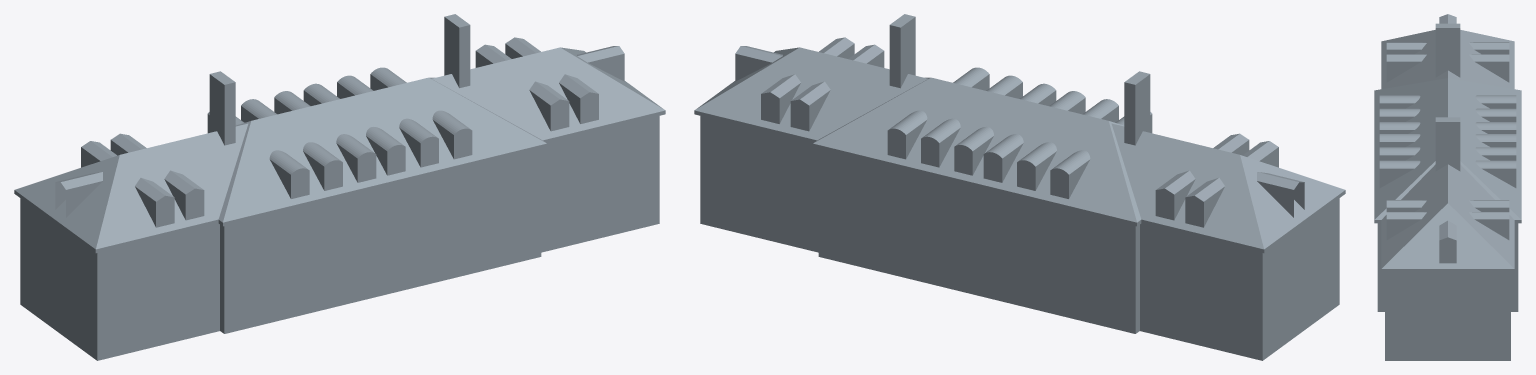
Rendered from lundgren.glb.
The picture shows the model from 3 angles, left to right: view 1: azimuth 30°, elevation 25°; view 2: azimuth 150°, elevation 25°; view 3: azimuth 270°, elevation 25°; orthographic projection. The views are drawn at different scales.
Parts seen in each view (by area): view 1: lundgren.002; view 2: lundgren.002; view 3: lundgren.002.
Boxes of the visible parts, x1,y1,x2,y2 form: lundgren.002: (14,14,665,360); lundgren.002: (694,14,1345,360); lundgren.002: (1374,14,1521,360).
Size of the model in its own units: 1941 by 699 by 531.
